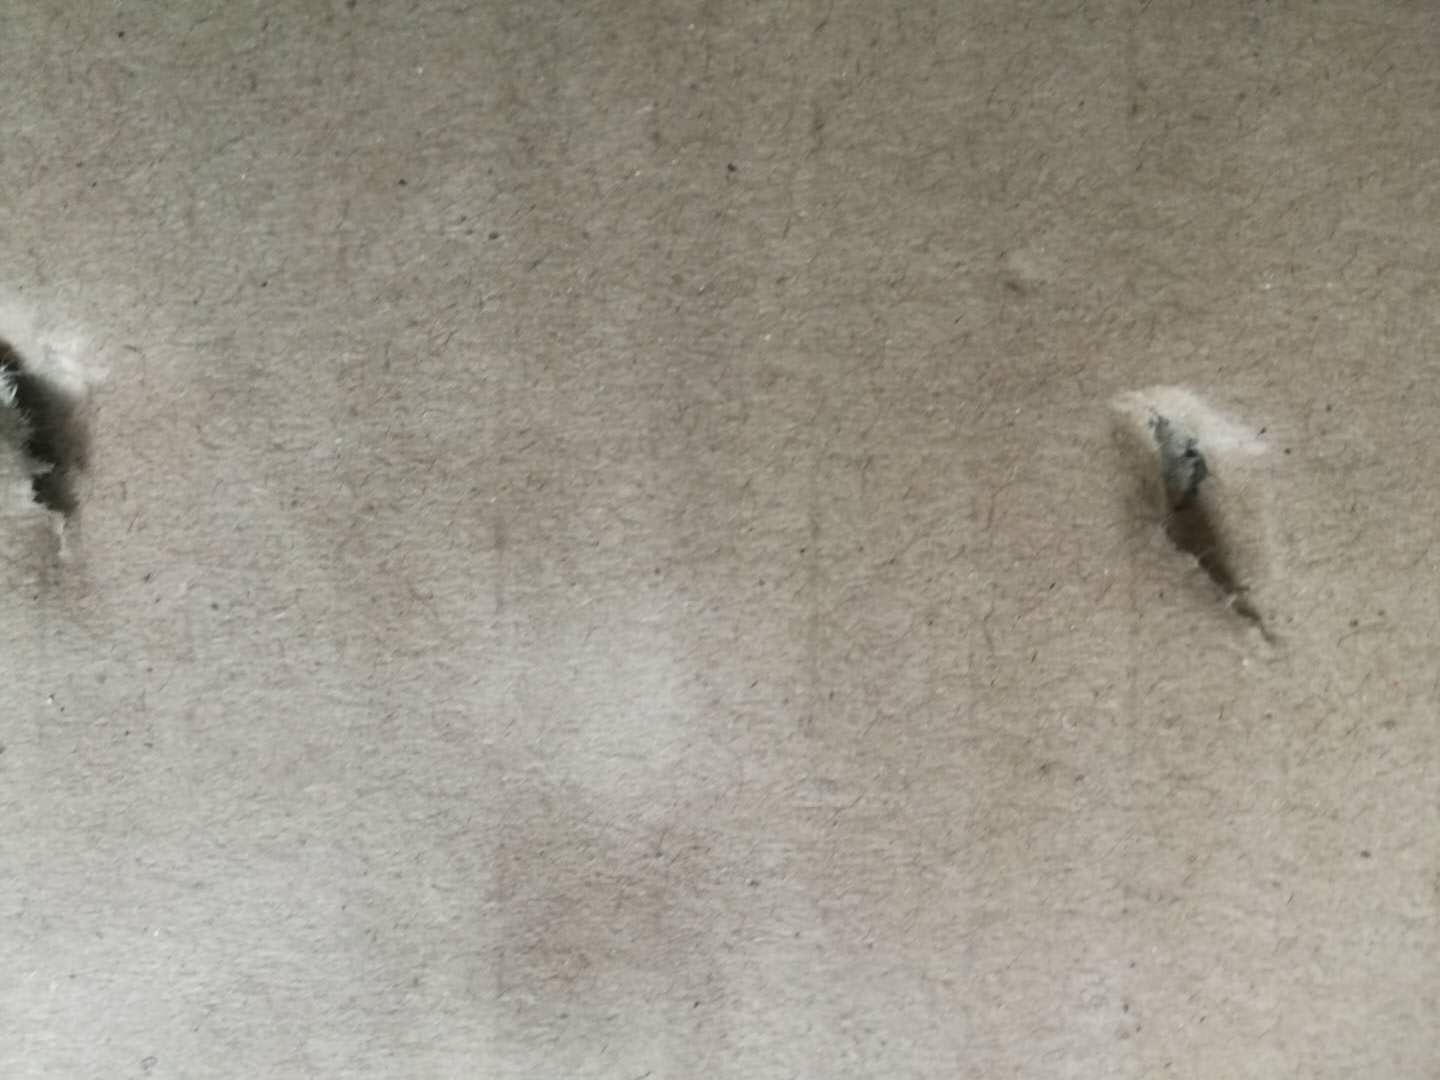defect: (1087, 361, 1331, 681), (2, 275, 132, 640)
